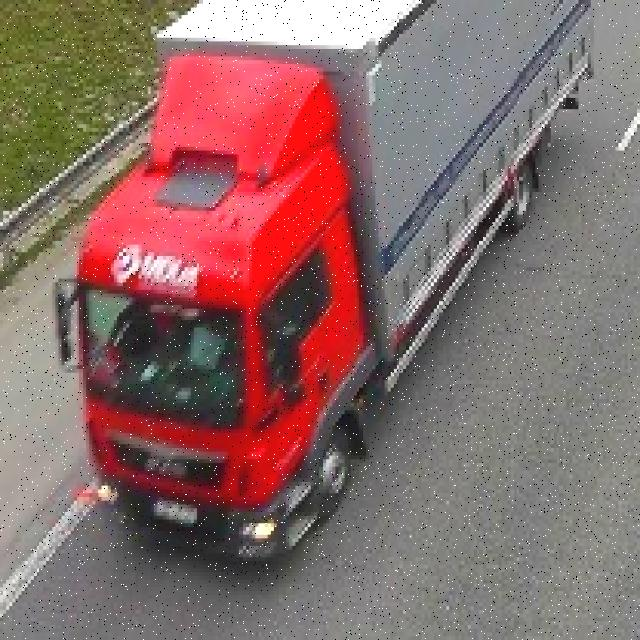truck: (58, 0, 597, 561)
